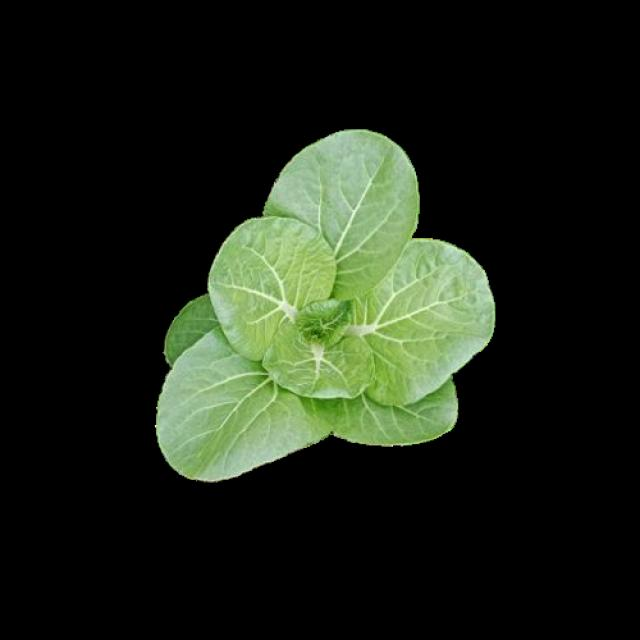healthy: (155, 125, 489, 479)
not-mature: (158, 128, 492, 481)
